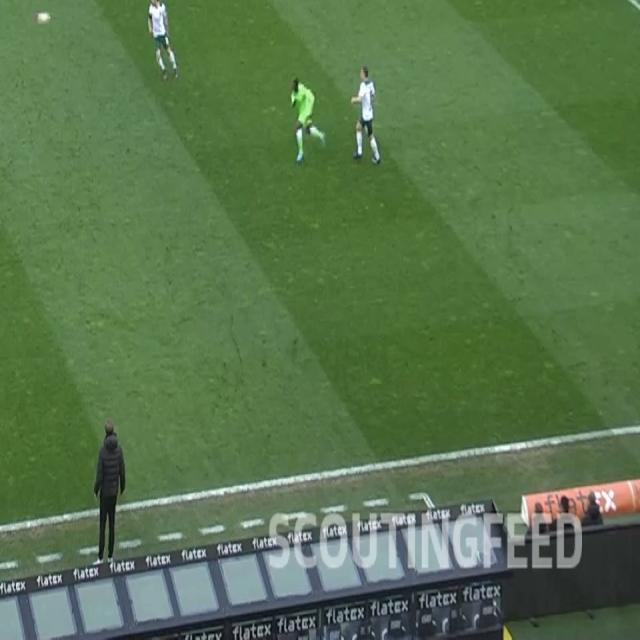ball: (32, 10, 52, 26)
